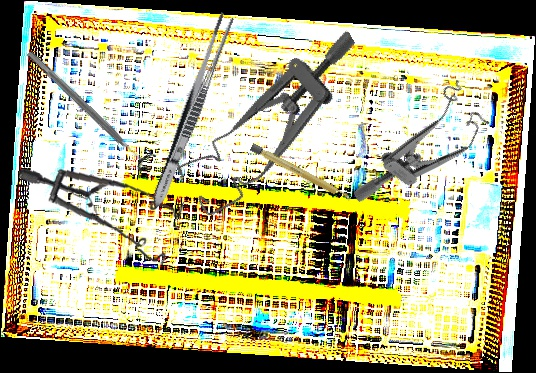Dressing Forceps: (146, 9, 237, 212)
Fixation Ring: (20, 43, 158, 174)
Scalpel Handle: (249, 143, 353, 203)
Speculum: (158, 28, 395, 220), (351, 69, 500, 237), (18, 155, 189, 277)
